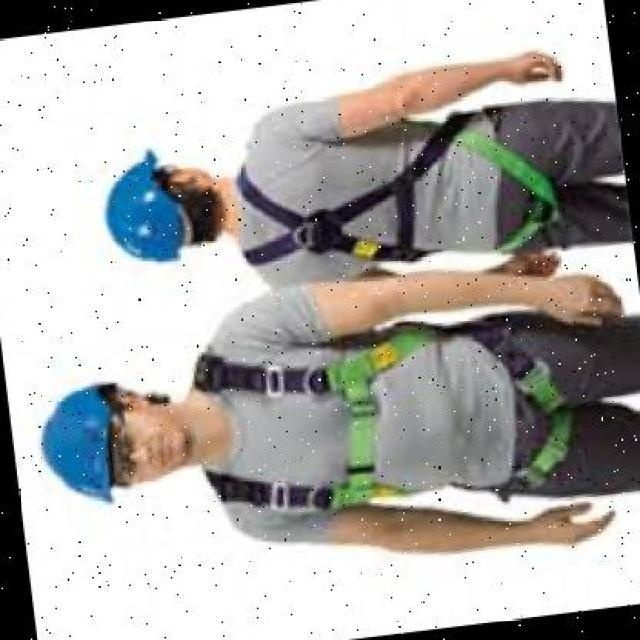Arnes_seguridad: (185, 301, 585, 537), (226, 100, 551, 292)
